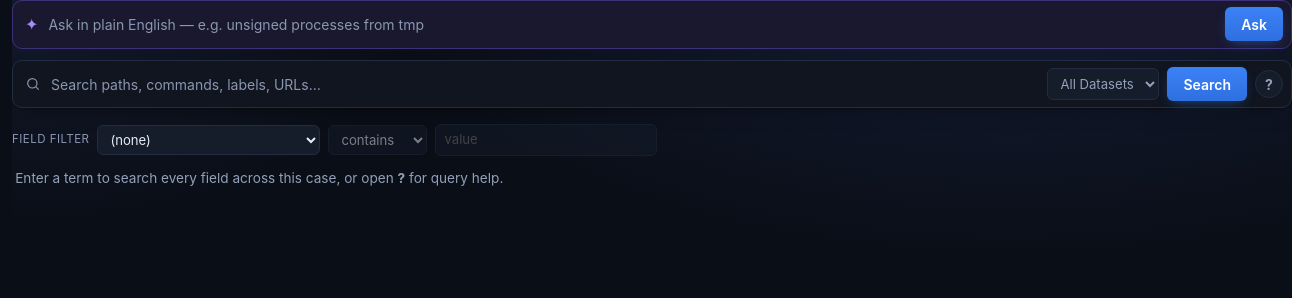
Search › compiles a natural-language question and runs it
Type "unsigned processes from tmp" into the field labelled "Ask in plain English".
click(632, 24); type("unsigned processes from tmp")  # box x1=46 y1=13 x2=1217 y2=36
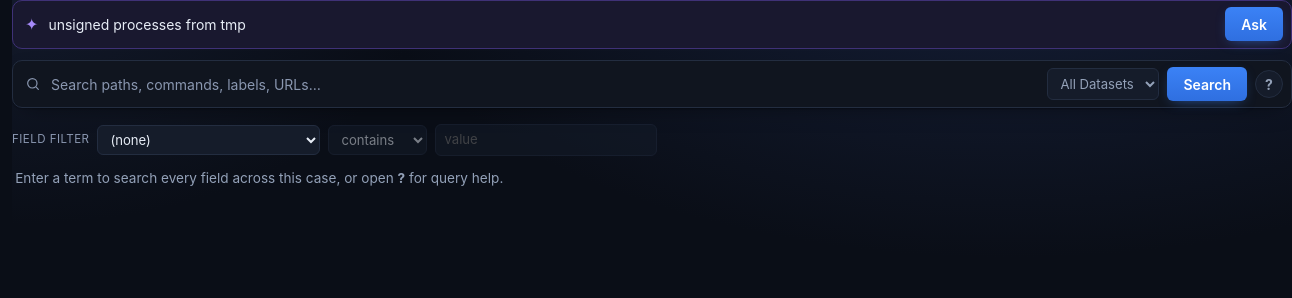
Click the button "Ask".
click(1254, 24)  # box x1=1225 y1=7 x2=1283 y2=41
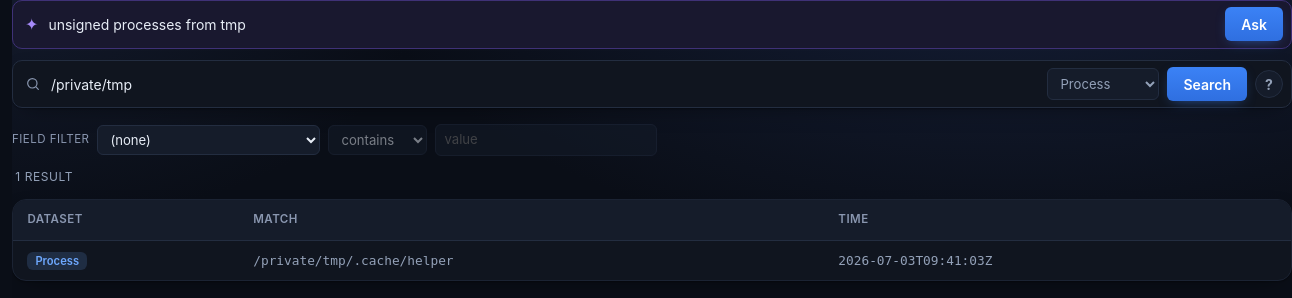
Expected: the button with test id "search-row" is shown, x1=13 y1=240 x2=1291 y2=280
